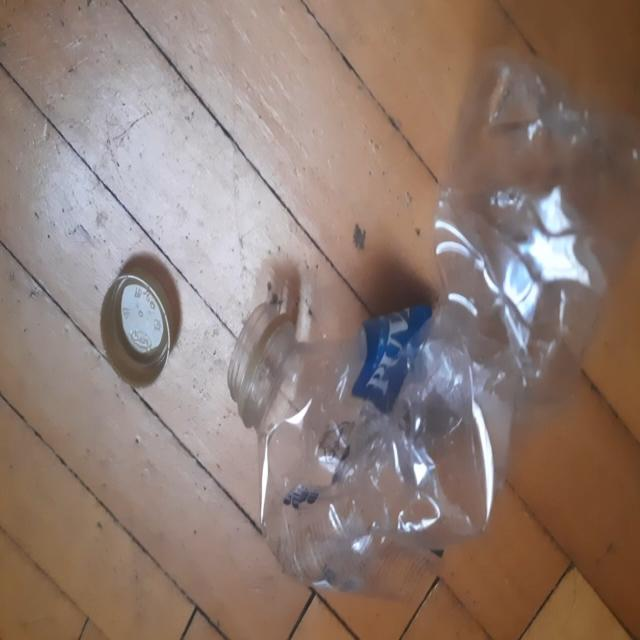Plastic: (227, 54, 637, 596)
